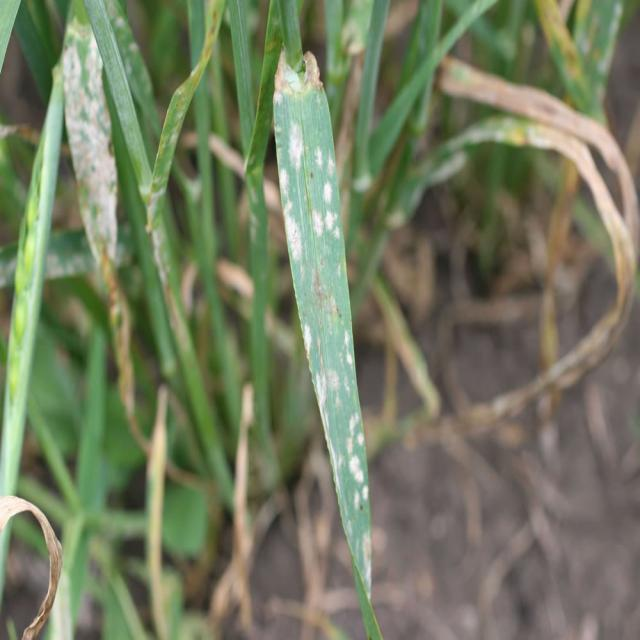wheat-powdery-mildew: (273, 49, 383, 640), (62, 13, 117, 265)
